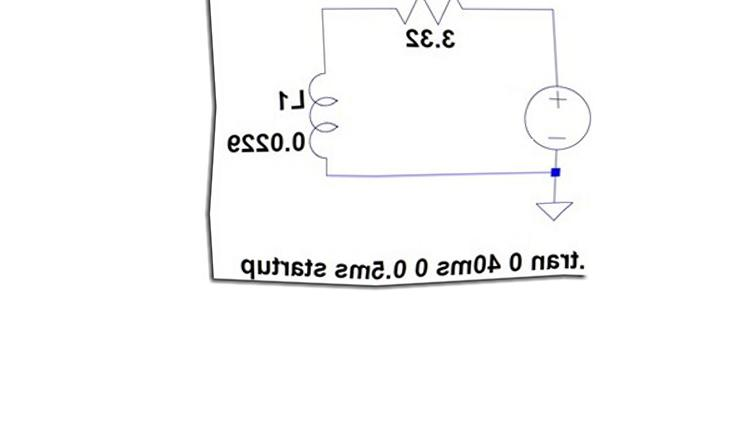Battery: (503, 73, 609, 161)
